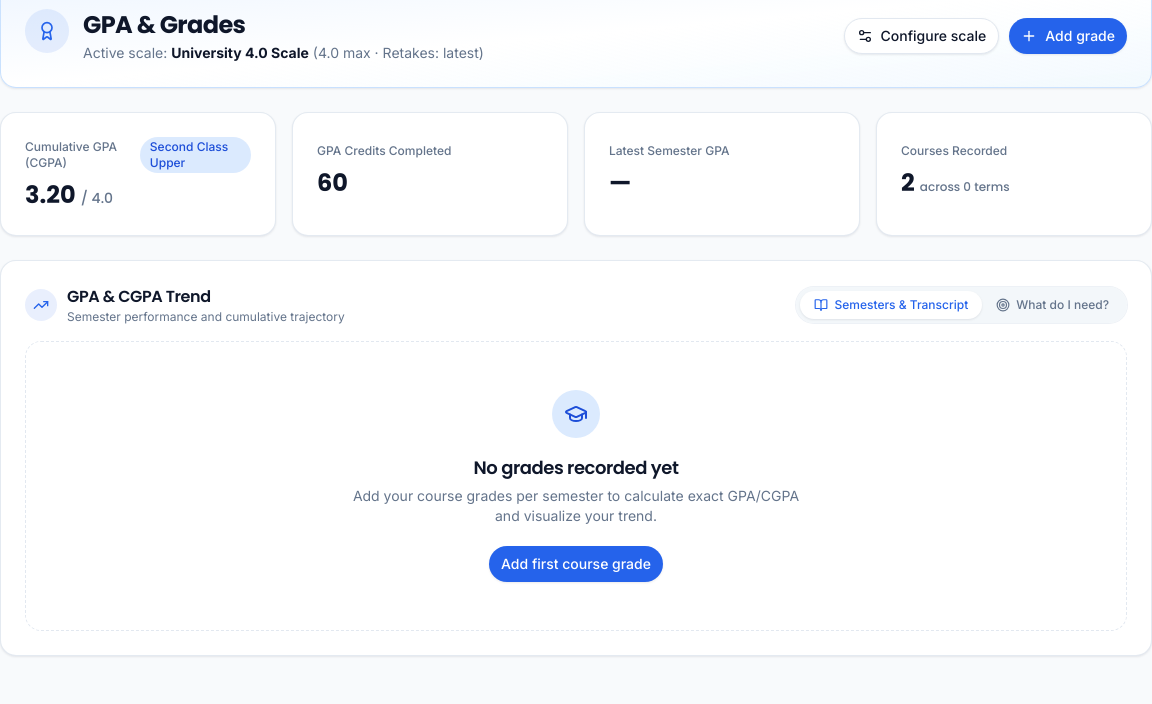
Scenario: GradesPage & GPA Calculator UI › runs "What do I need?" target calculator for achievable and impossible goals
This screenshot has width=1152, height=704.
Expected: the text "3.20" is shown, [25,178,76,211]
Step 1. Click the tab "What do I need?" → (1053, 305), box [982,291,1123,319]
(page scrolled)
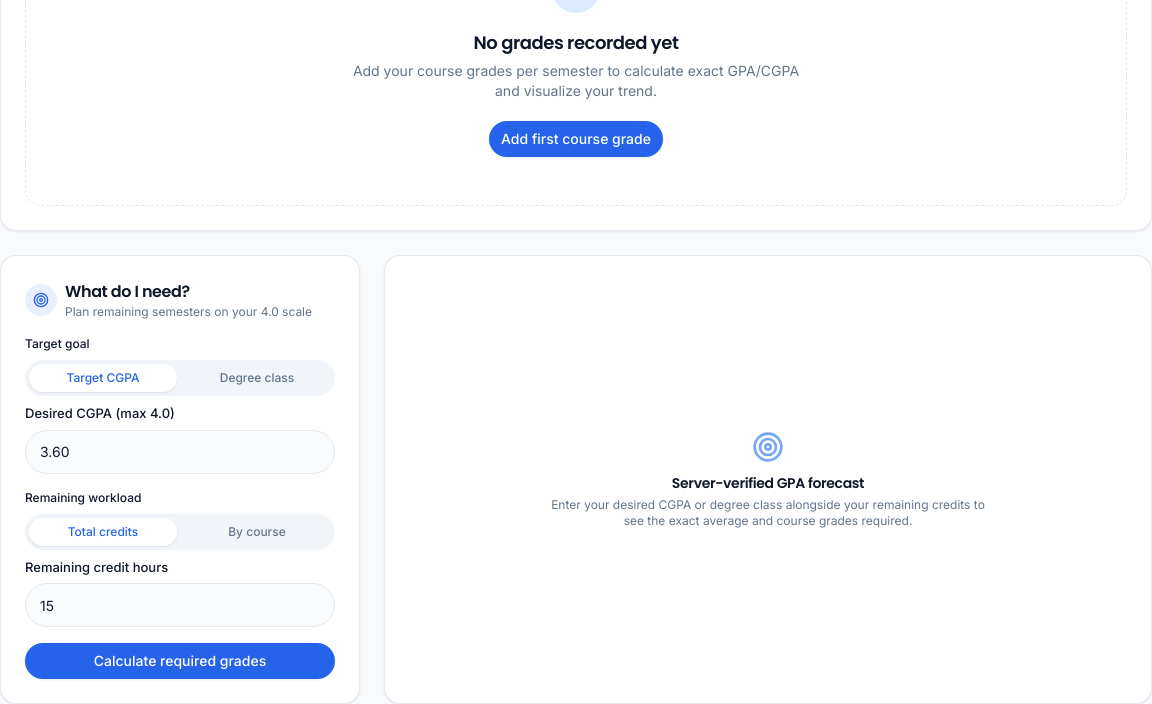
Step 2. Replace the text in the number field labelled "Desired CGPA (max 4.0)" with "3.30" → (180, 452), box [25,430,335,474]
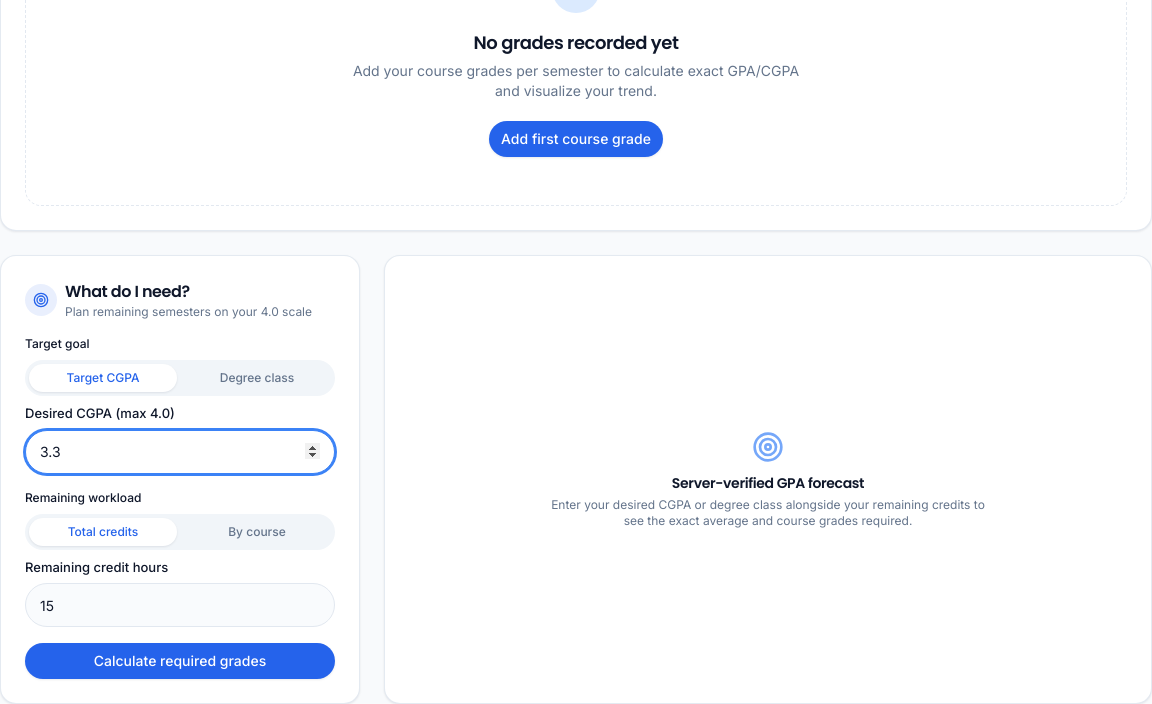
Step 3. Click the button "Calculate required grades" → (180, 661), box [25,643,335,679]
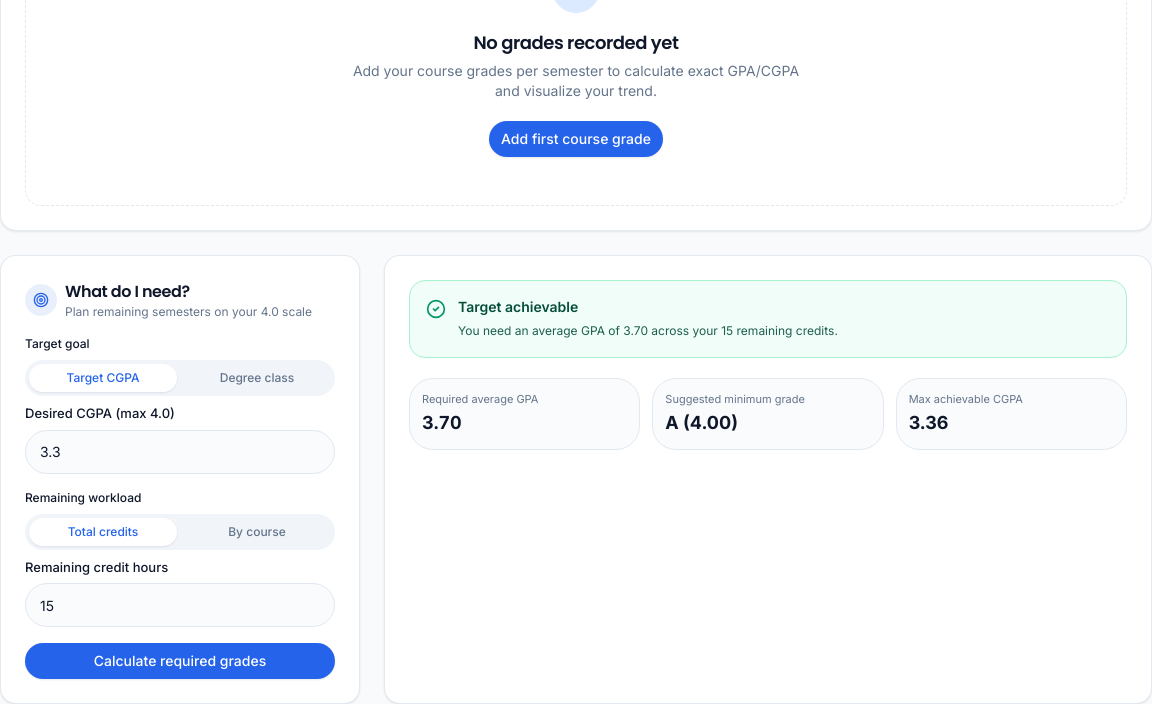
Now the text "Target achievable" is shown, box [458,297,578,317]
Now the text "3.70" is shown, box [422,412,462,433]
Step 4. Replace the text in the number field labelled "Desired CGPA (max 4.0)" with "3.90" → (180, 452), box [25,430,335,474]
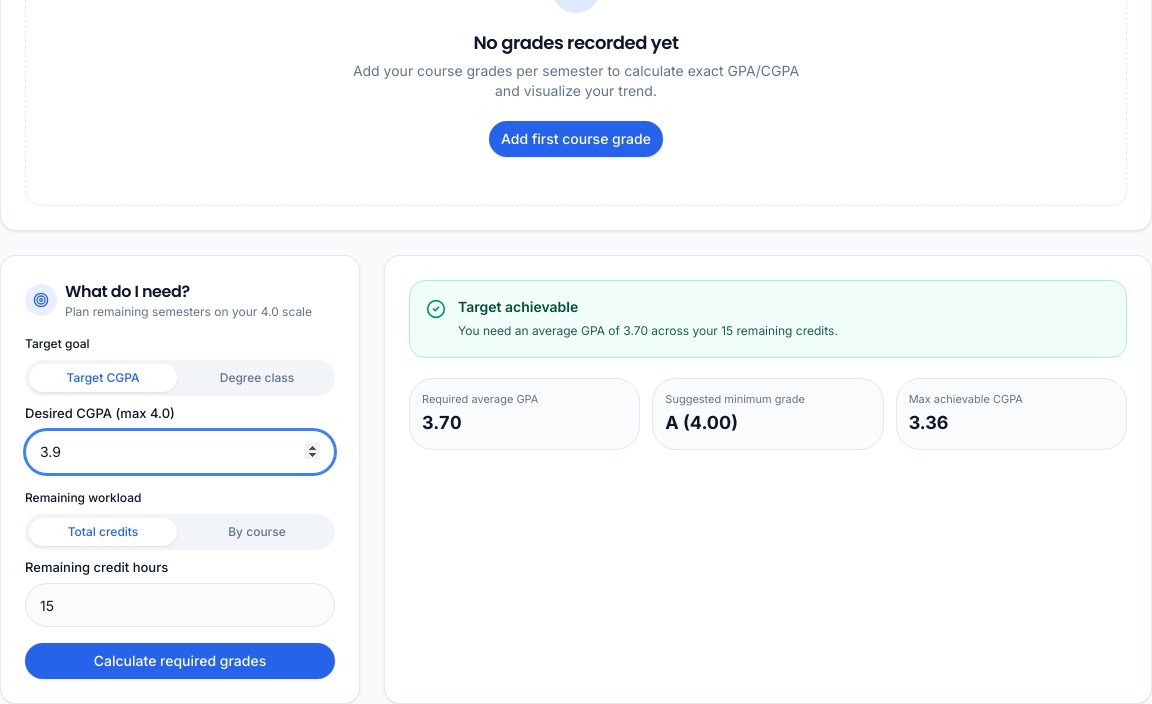
Step 5. Click the button "Calculate required grades" → (180, 661), box [25,643,335,679]
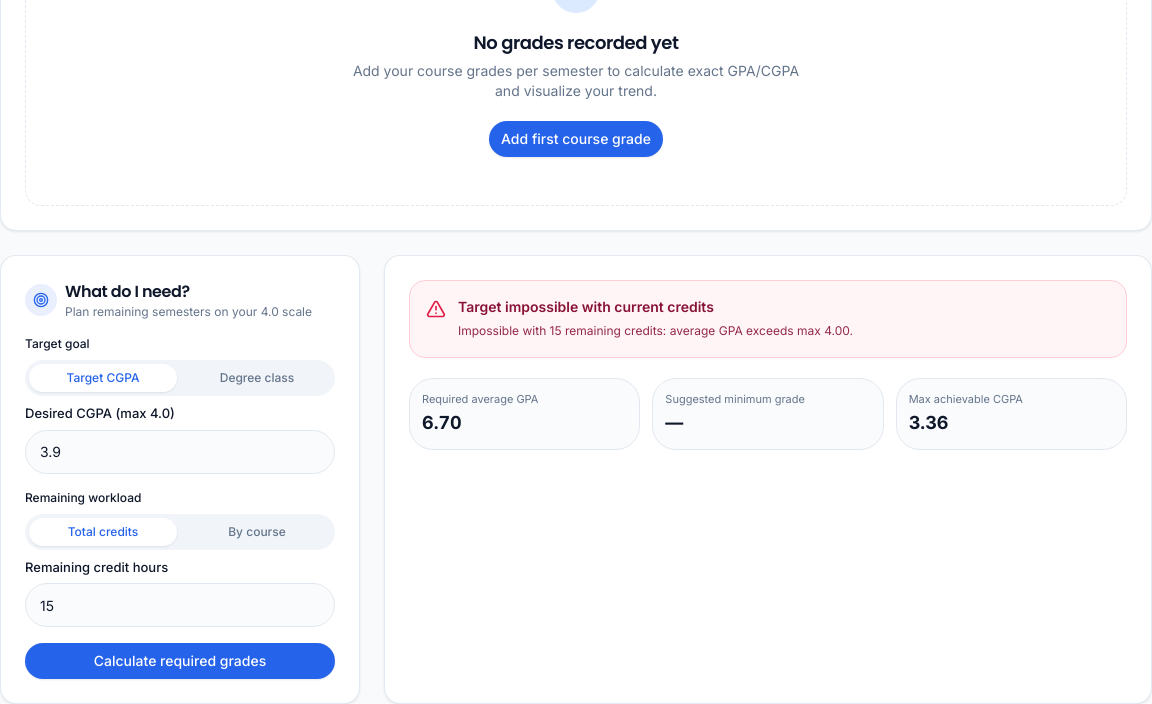
Now the text "Target impossible with current credits" is shown, box [458,297,714,317]
